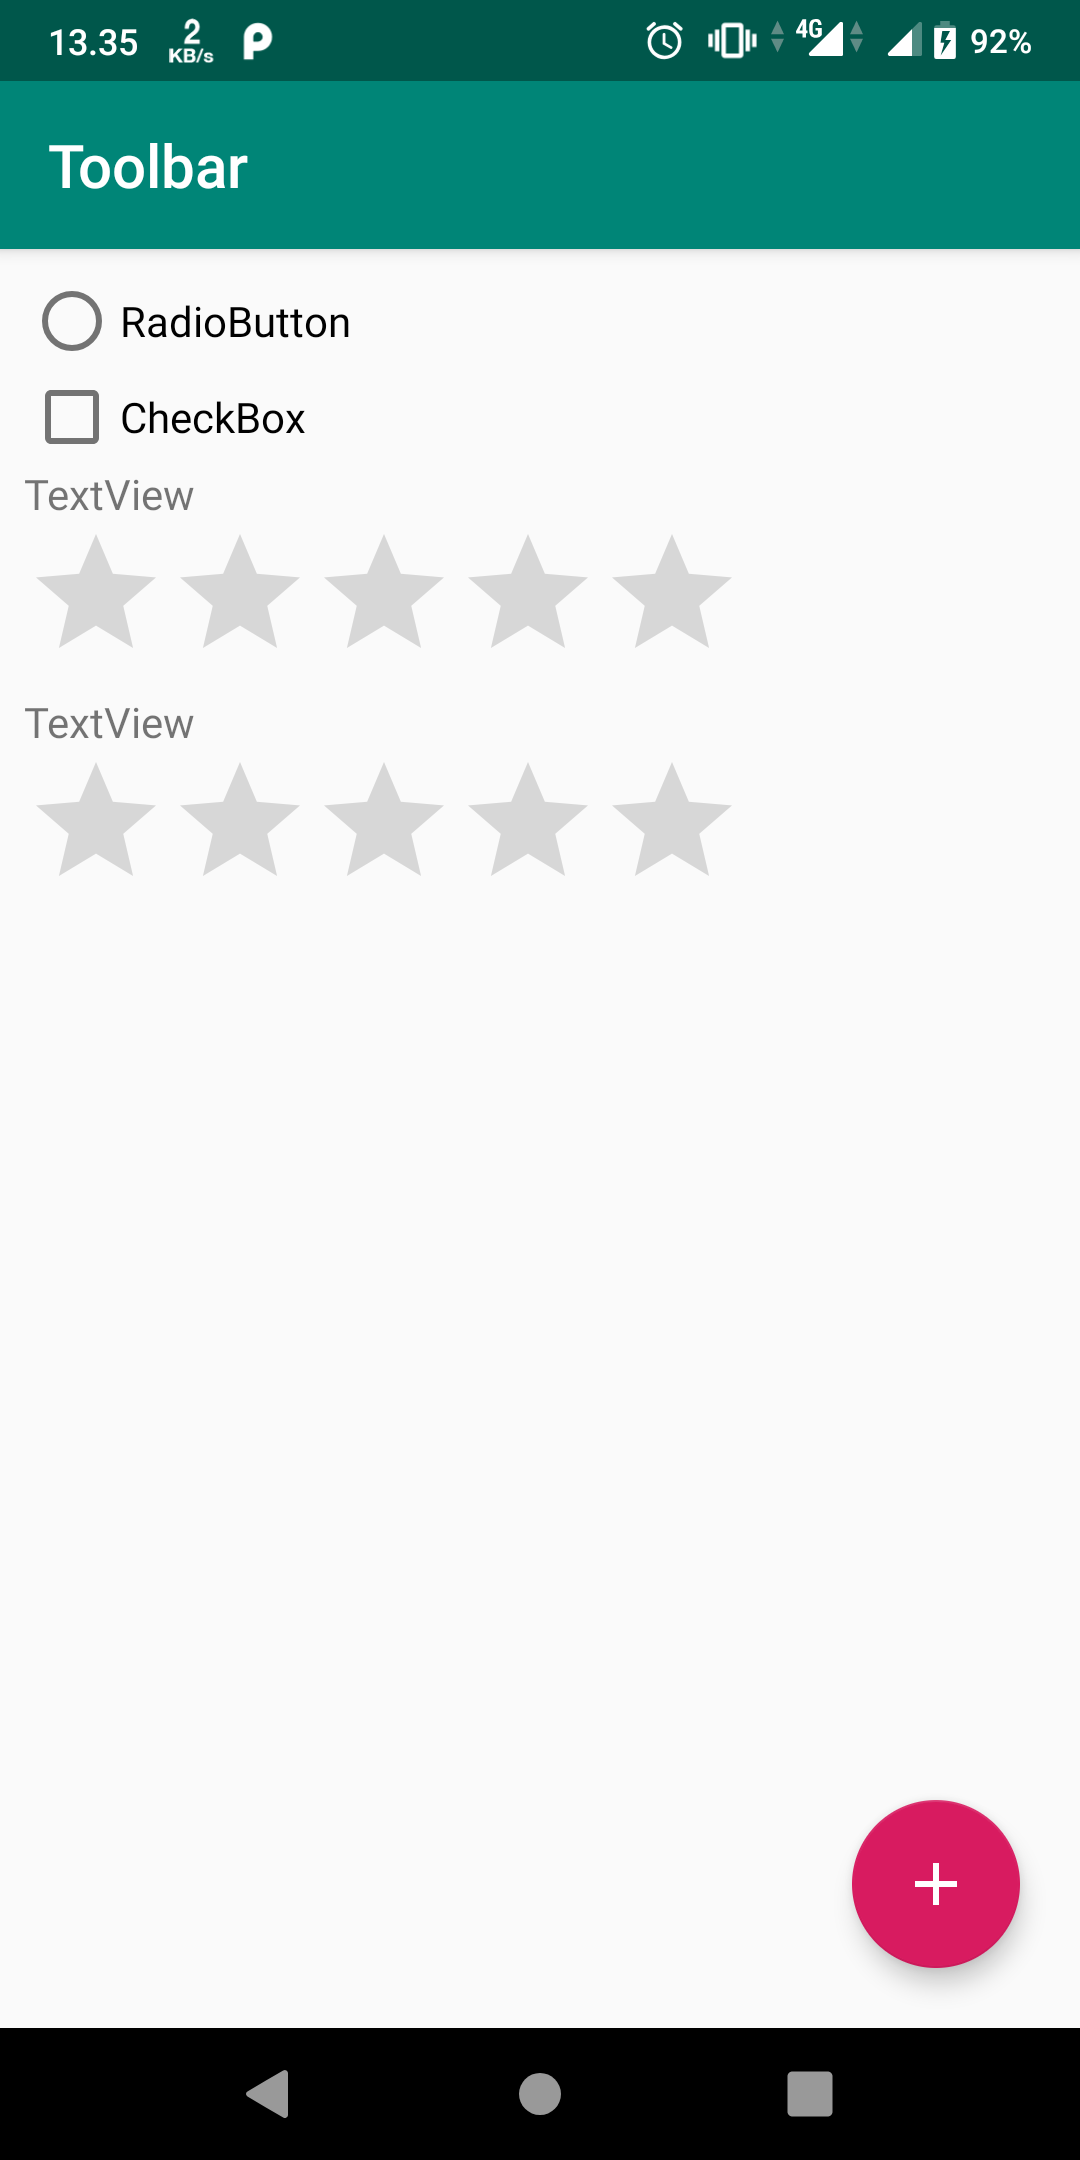checkBox: (34, 386, 342, 455)
floatingButton: (849, 1796, 1035, 1977)
radioButton: (34, 287, 357, 357)
ratingBar: (41, 534, 754, 664), (28, 758, 738, 886)
textView: (22, 698, 209, 751), (22, 473, 196, 519)
toolbar: (3, 77, 1080, 247)
